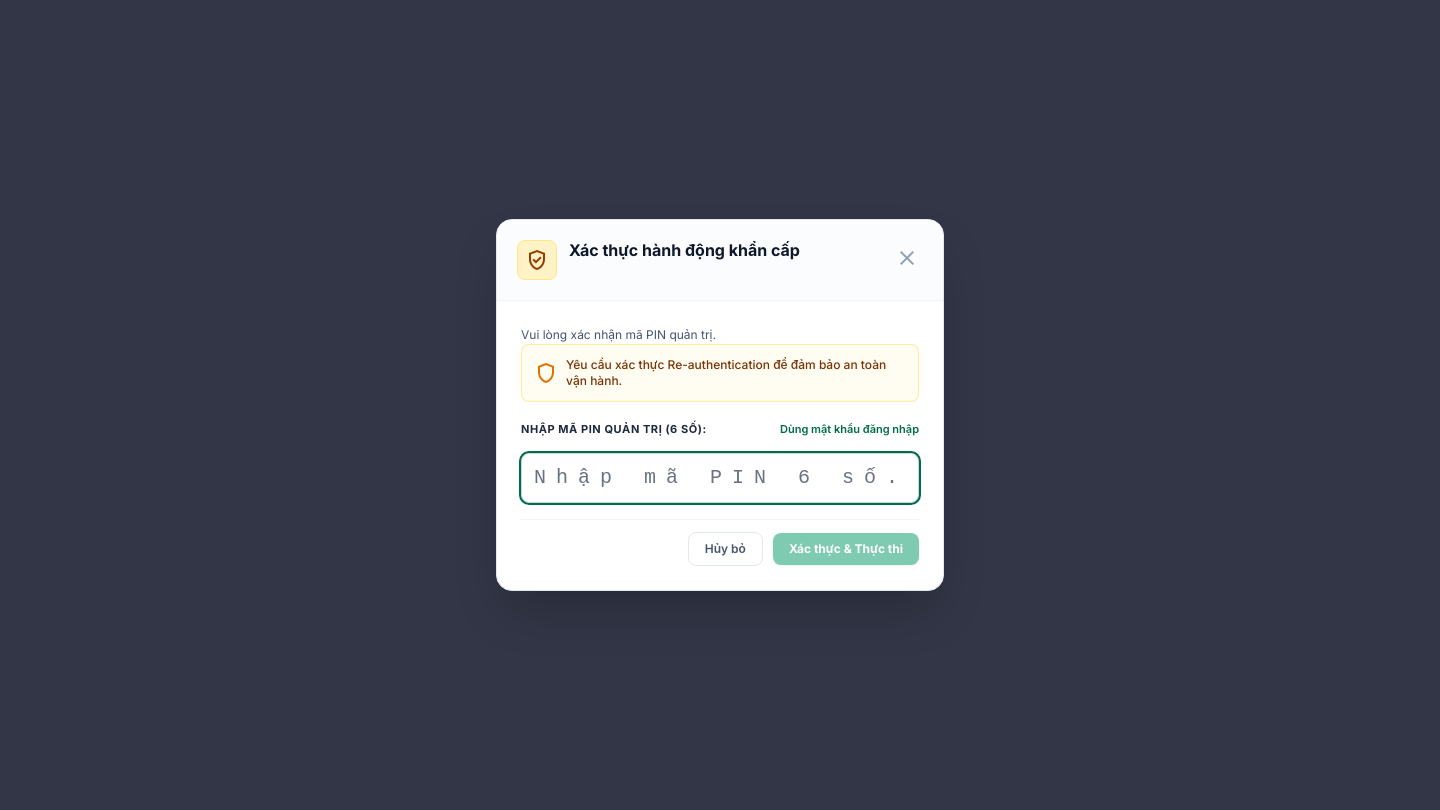
Scenario: Test Suite: PIN Verification & Security Validation (Rule 11 - 2-Tier Testing) › 1. Issue 1: Xác Thực Mã PIN An Toàn (Zero Session Drop) › 1.1. Tầng 1: Nhập sai mã PIN hiển thị thông báo lỗi đỏ và giữ nguyên modal
Type "999999" into the password field with placeholder "Nhập mã PIN 6 số..." at point(720, 478), box [521,453,919,503]
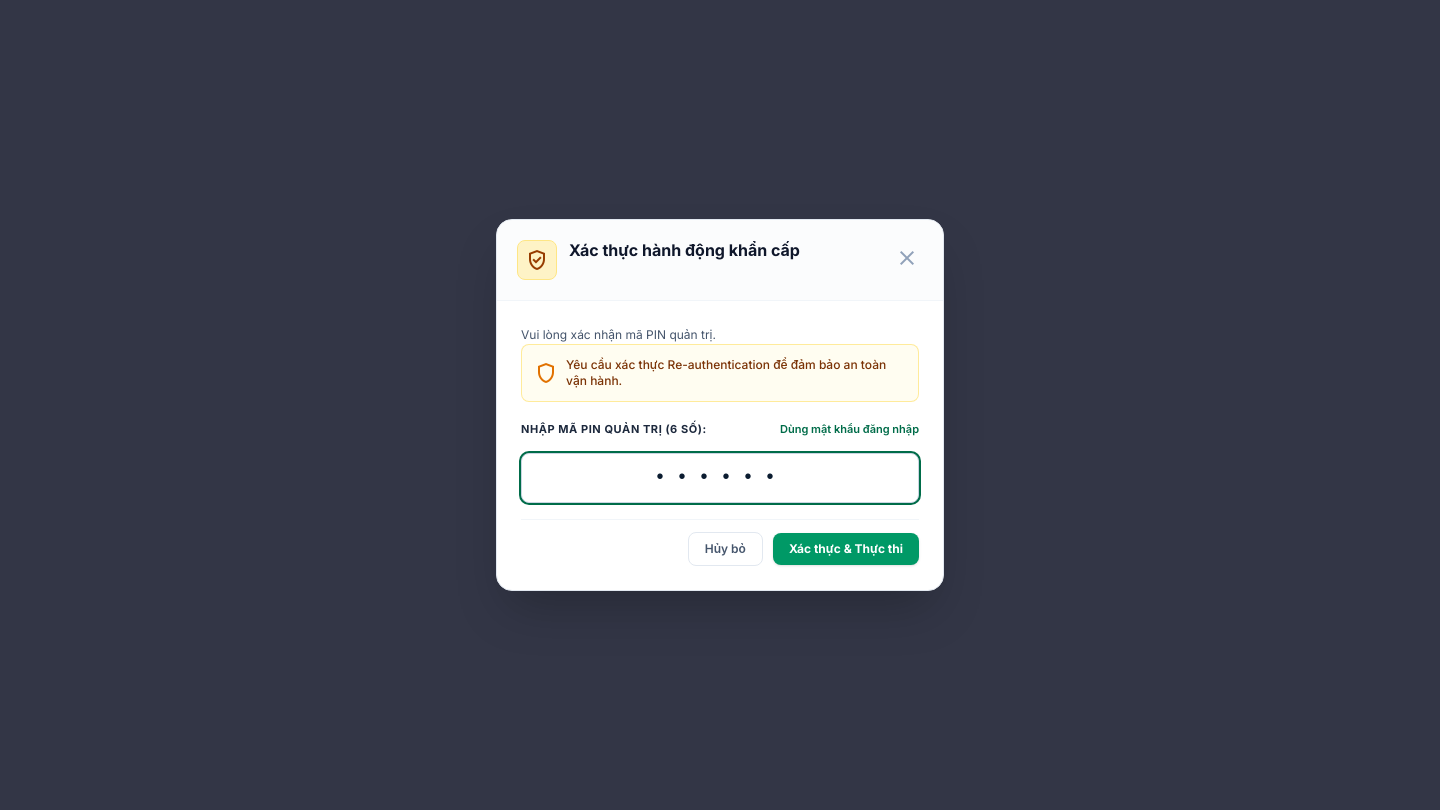
Click the button "Xác thực & Thực thi" at point(846, 549), box [773,533,919,565]
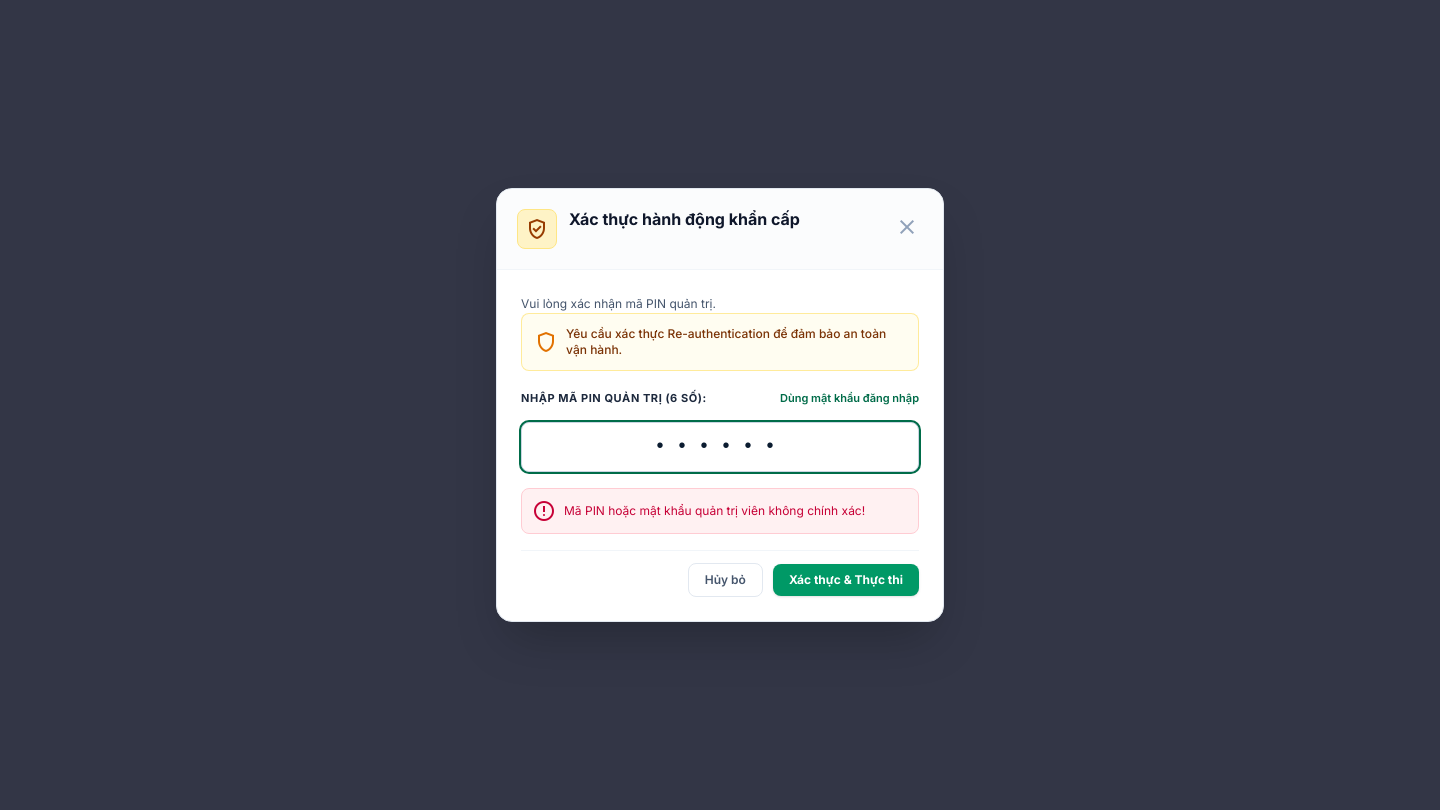
Check: the heading "Xác thực hành động khẩn cấp" is shown, box [569,209,800,229]
Check: the text "Mã PIN hoặc mật khẩu quản trị viên không chính xác!" is shown, box [564,503,865,519]
